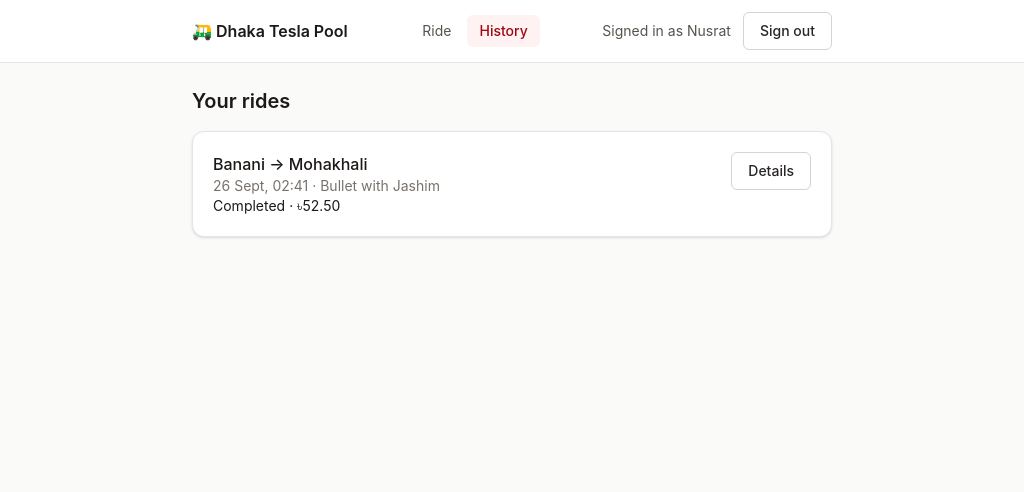
passenger history › lists yesterday's pooled ride with its fare, and explains exactly what happened
Expected: the text "Banani → Mohakhali" is shown, x1=213 y1=154 x2=368 y2=174
Expected: the text "Completed · ৳52.50" is shown, x1=213 y1=197 x2=340 y2=214
Click the button "Details".
click(771, 171)  # box x1=731 y1=152 x2=811 y2=190
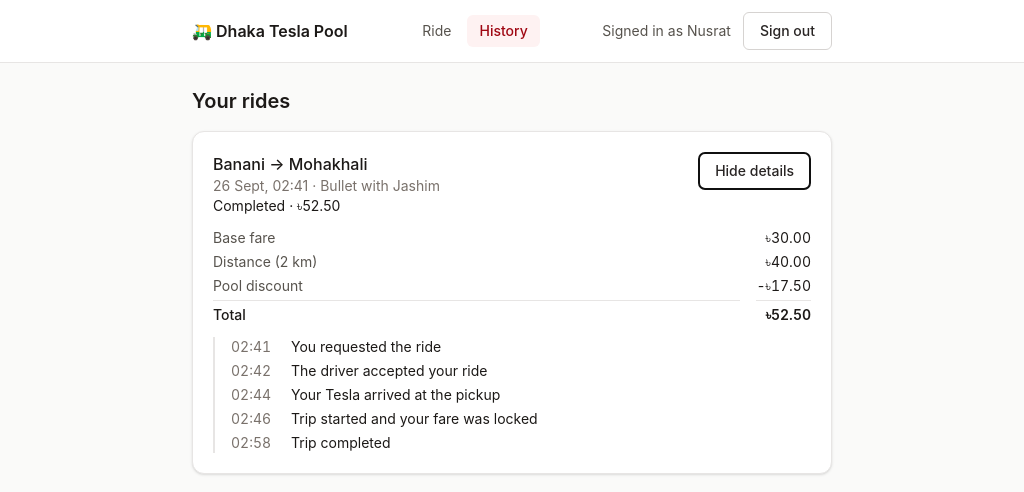
Now the text "You requested the ride" is shown, box x1=291 y1=337 x2=441 y2=357
Now the text "The driver accepted your ride" is shown, box x1=291 y1=361 x2=488 y2=381
Now the text "Your Tesla arrived at the pickup" is shown, box x1=291 y1=385 x2=500 y2=405
